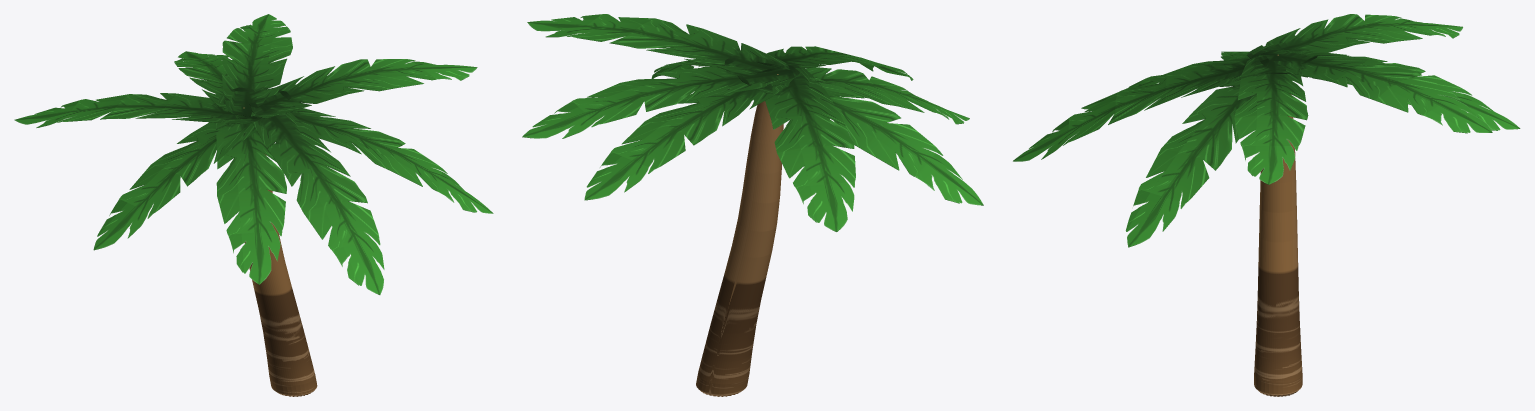
File: Palm Tree.fbx
3 renders of one model, left to right at view 1: azimuth 30°, elevation 25°; view 2: azimuth 150°, elevation 25°; view 3: azimuth 270°, elevation 25°, orthographic. The views are drawn at different scales.
Visible parts, largest first — view 1: Plane; view 2: Plane; view 3: Plane.
Part boxes in pixels (left/top/right/bottom): Plane: left=14, top=14, right=493, bottom=396; Plane: left=522, top=14, right=983, bottom=396; Plane: left=1013, top=14, right=1520, bottom=396.
Bounding box in the file's own units: 1630 × 1183 × 1725.
2 materials, 2 textured.
